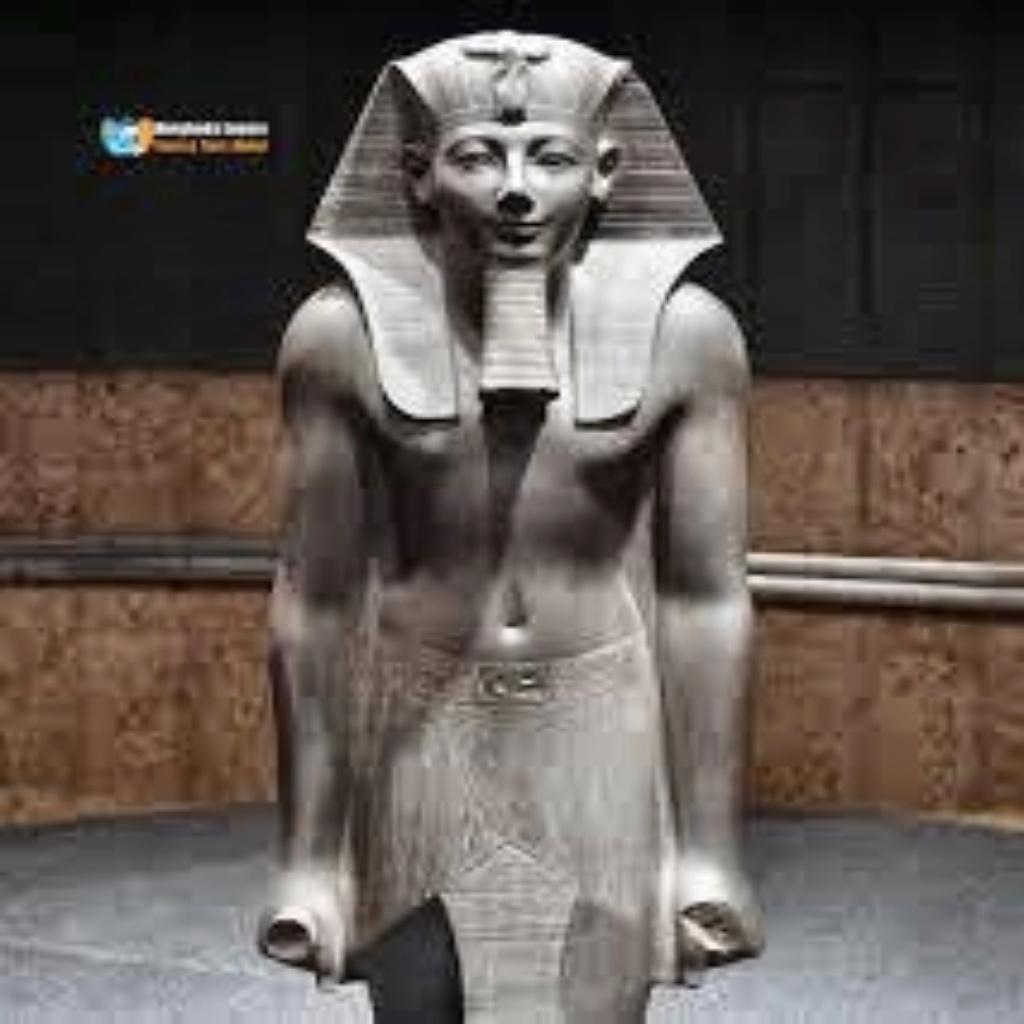King Thutmose III: (248, 22, 770, 1020)
